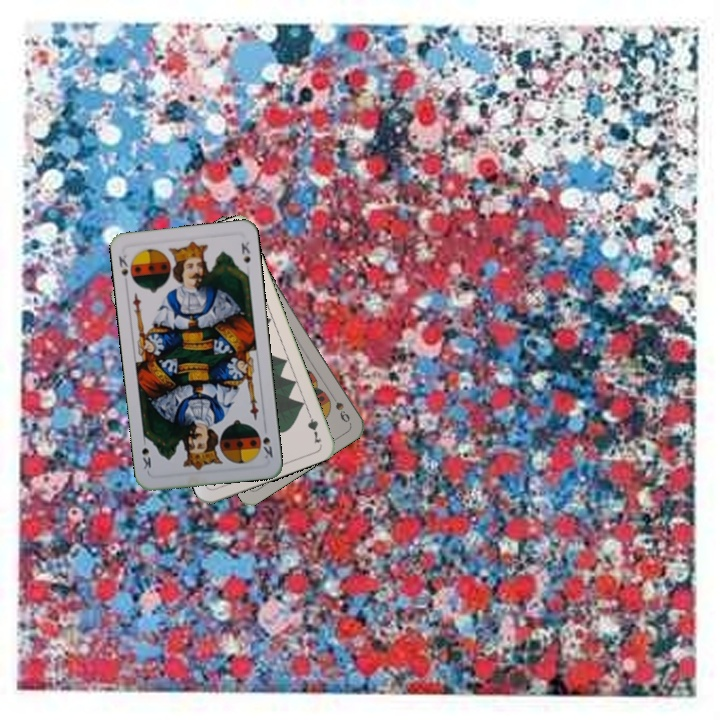G7: (303, 406, 324, 446)
S9: (326, 389, 353, 425)
SK: (114, 251, 131, 288), (259, 433, 275, 461)
